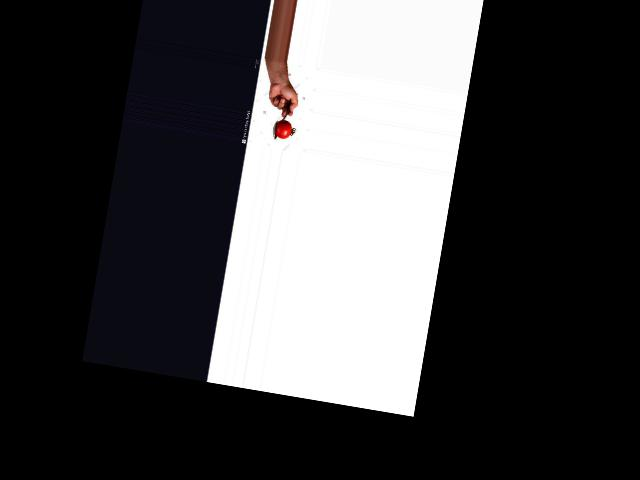tomato: (274, 118, 293, 139)
